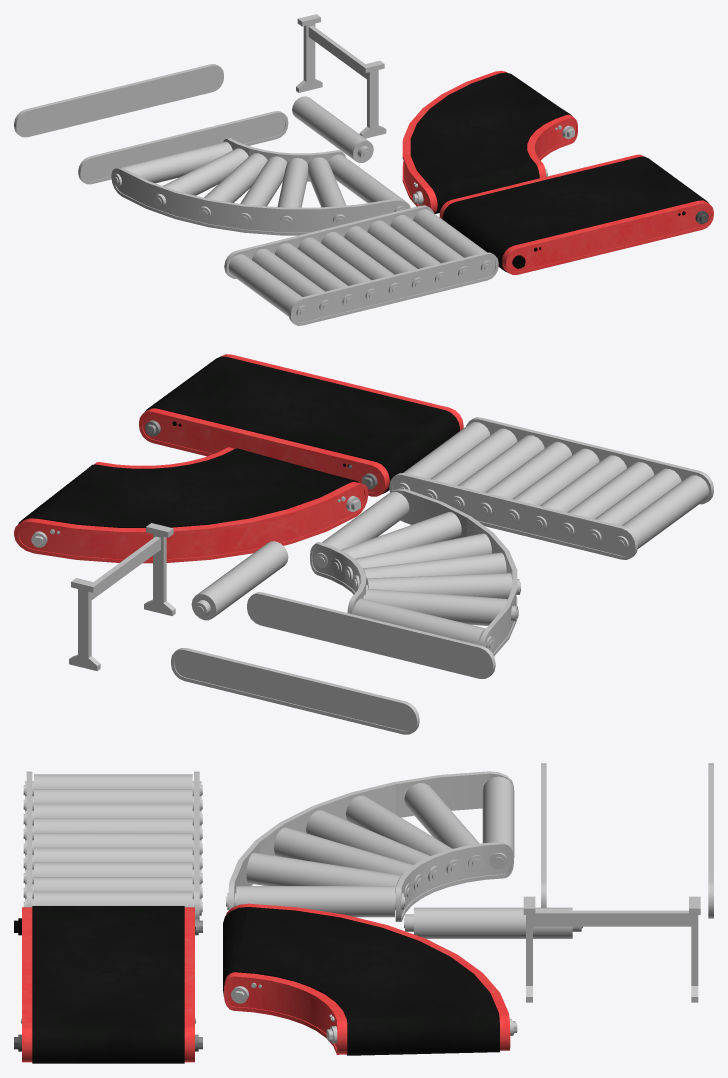
File: ConveyorbeltPKG1.fbx
3 renders of one model, top to bottom at view 1: azimuth 30°, elevation 25°; view 2: azimuth 150°, elevation 25°; view 3: azimuth 270°, elevation 25°, orthographic. The views are drawn at different scales.
Visible parts, largest first — view 1: conveyorbelt.mo, conveyorbelt_b.mo, conveyorbelt_b_corner.mo, conveyorbelt_corner.mo, conveyorbelt_b_seperate_rail.mo, conveyorbelt_support.mo, conveyorbelt_b_seperate_roller.mo; view 2: conveyorbelt_corner.mo, conveyorbelt_b.mo, conveyorbelt.mo, conveyorbelt_b_corner.mo, conveyorbelt_b_seperate_rail.mo, conveyorbelt_support.mo, conveyorbelt_b_seperate_roller.mo; view 3: conveyorbelt_corner.mo, conveyorbelt_b_corner.mo, conveyorbelt.mo, conveyorbelt_b.mo, conveyorbelt_support.mo, conveyorbelt_b_seperate_roller.mo, conveyorbelt_b_seperate_rail.mo.
Boxes of the visible parts, x1,y1,x2,y2 form: conveyorbelt.mo: (439,154,713,274); conveyorbelt_b.mo: (224,205,498,325); conveyorbelt_b_corner.mo: (111,138,410,235); conveyorbelt_corner.mo: (402,70,577,213); conveyorbelt_b_seperate_rail.mo: (14,64,288,184); conveyorbelt_support.mo: (296,14,386,138); conveyorbelt_b_seperate_roller.mo: (292,96,373,162); conveyorbelt_corner.mo: (14,447,368,563); conveyorbelt_b.mo: (389,417,713,559); conveyorbelt.mo: (139,354,463,496); conveyorbelt_b_corner.mo: (310,488,520,656); conveyorbelt_b_seperate_rail.mo: (171,592,495,734); conveyorbelt_support.mo: (69,523,175,670); conveyorbelt_b_seperate_roller.mo: (191,541,288,620); conveyorbelt_corner.mo: (223,903,517,1055); conveyorbelt_b_corner.mo: (226,771,514,921); conveyorbelt.mo: (14,906,202,1063); conveyorbelt_b.mo: (23,771,202,920); conveyorbelt_support.mo: (523,896,700,1002); conveyorbelt_b_seperate_roller.mo: (404,907,582,938); conveyorbelt_b_seperate_rail.mo: (541,763,713,918).
Bounding box in the file's own units: 365 × 56.91 × 390.
